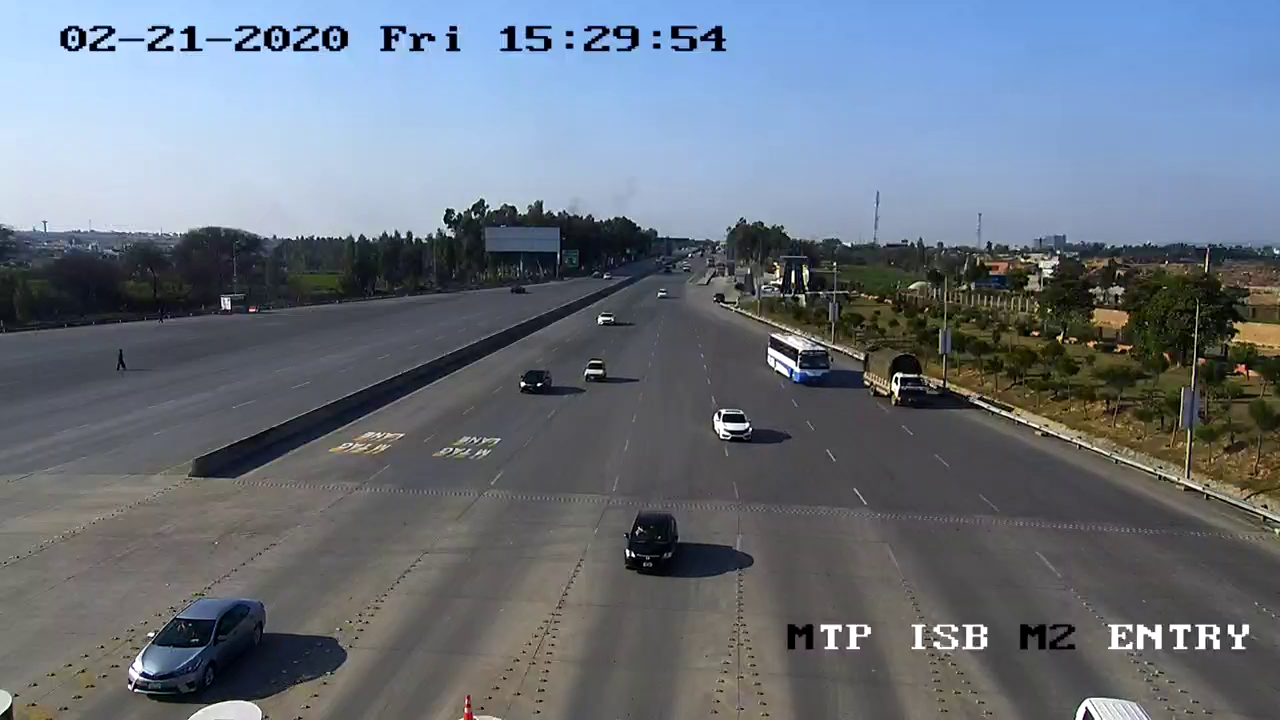f1: (119, 592, 269, 703), (622, 504, 681, 584), (702, 400, 766, 455)
f4: (755, 318, 839, 394)
f5: (843, 337, 939, 412)
